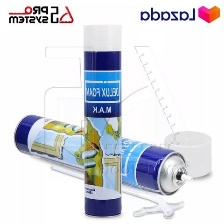aerosol_cans: (9, 111, 197, 200), (81, 19, 126, 219)
